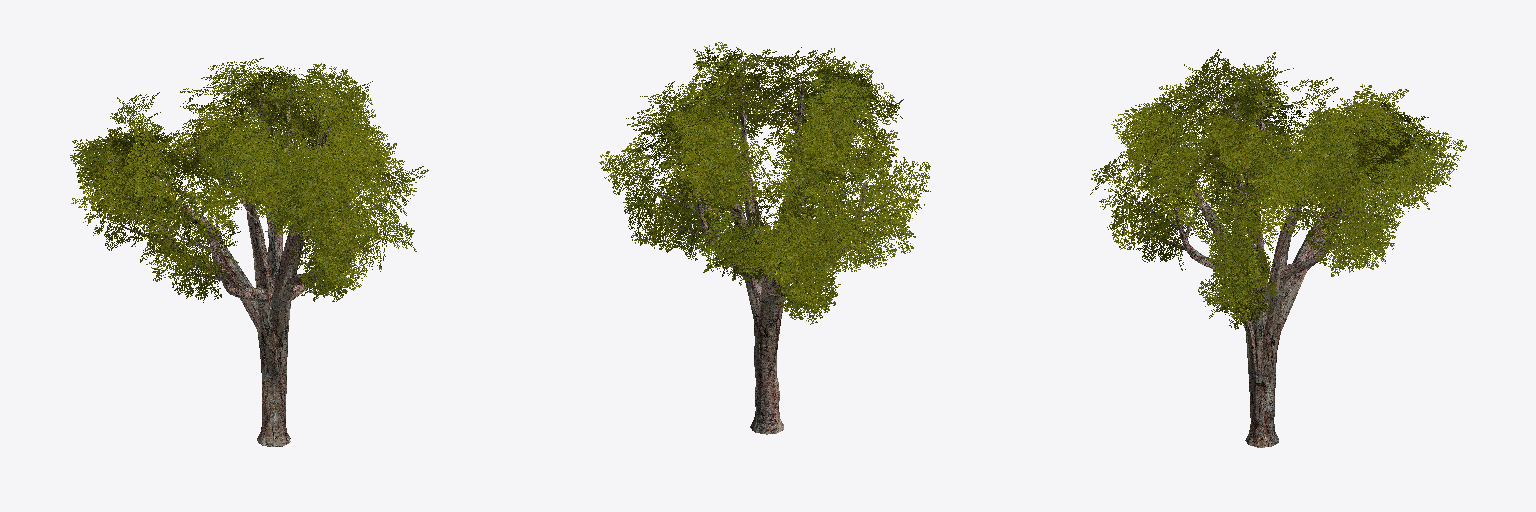
The picture shows the model from 3 angles: view 1: azimuth 30°, elevation 25°; view 2: azimuth 150°, elevation 25°; view 3: azimuth 270°, elevation 25°; orthographic projection.
Parts seen in each view (by area): view 1: Foliage__leafcard, Bark; view 2: Foliage__leafcard, Bark; view 3: Foliage__leafcard, Bark.
Boxes of the visible parts, x1,y1,x2,y2 form: Foliage__leafcard: [70, 58, 428, 302]; Bark: [102, 81, 388, 446]; Foliage__leafcard: [599, 42, 930, 324]; Bark: [643, 69, 897, 434]; Foliage__leafcard: [1090, 49, 1466, 329]; Bark: [1119, 73, 1415, 447].
Size of the model in its own units: 20.72 by 24 by 22.98.
Materials: 2 (2 with a texture image).